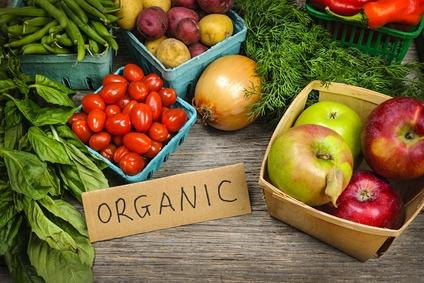apple: (268, 124, 354, 208), (361, 97, 424, 180), (327, 170, 406, 230), (294, 100, 364, 160)
onion: (192, 55, 262, 131)
potato: (198, 14, 234, 47), (136, 6, 168, 40), (165, 7, 200, 38), (157, 38, 192, 68), (114, 0, 144, 30), (174, 17, 202, 46), (145, 34, 168, 58), (197, 1, 234, 14), (143, 0, 171, 13), (188, 43, 208, 58), (194, 8, 210, 22)
tomato: (130, 102, 152, 132), (161, 108, 188, 132), (104, 113, 132, 135), (123, 133, 152, 154), (72, 119, 96, 144), (119, 152, 144, 176), (102, 82, 128, 104), (145, 90, 162, 122), (80, 94, 106, 114), (127, 80, 150, 101), (87, 109, 107, 132), (140, 74, 163, 94), (123, 63, 144, 82), (89, 132, 111, 150), (142, 140, 164, 158), (159, 88, 178, 108), (100, 143, 118, 162), (102, 74, 128, 87), (113, 145, 130, 163), (115, 93, 132, 110), (68, 112, 88, 126), (123, 100, 139, 116), (104, 104, 121, 119)
